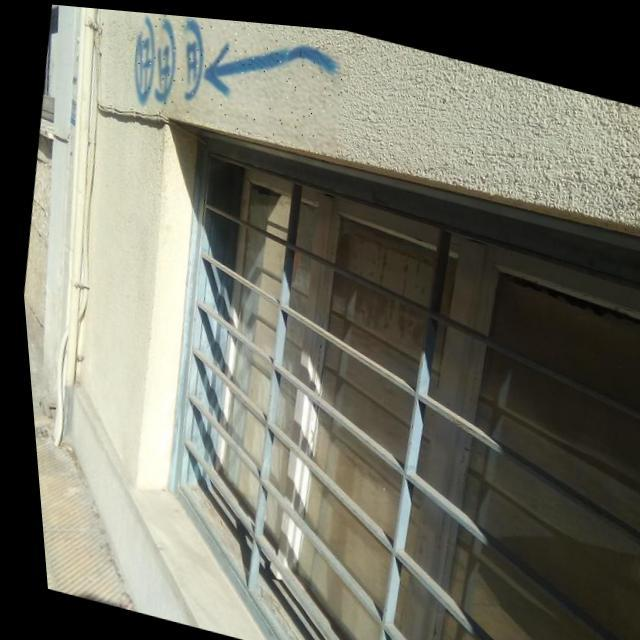-: (123, 9, 351, 150)
